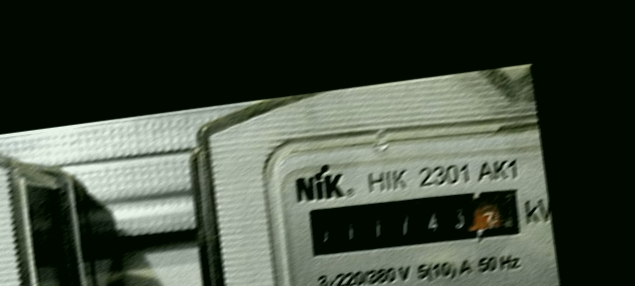0: (314, 215, 331, 243)
1: (341, 211, 358, 241), (368, 208, 385, 238)
3: (449, 201, 467, 230), (479, 207, 497, 230)
4: (424, 206, 441, 233)
7: (396, 208, 413, 234)
screen: (299, 174, 532, 268)
